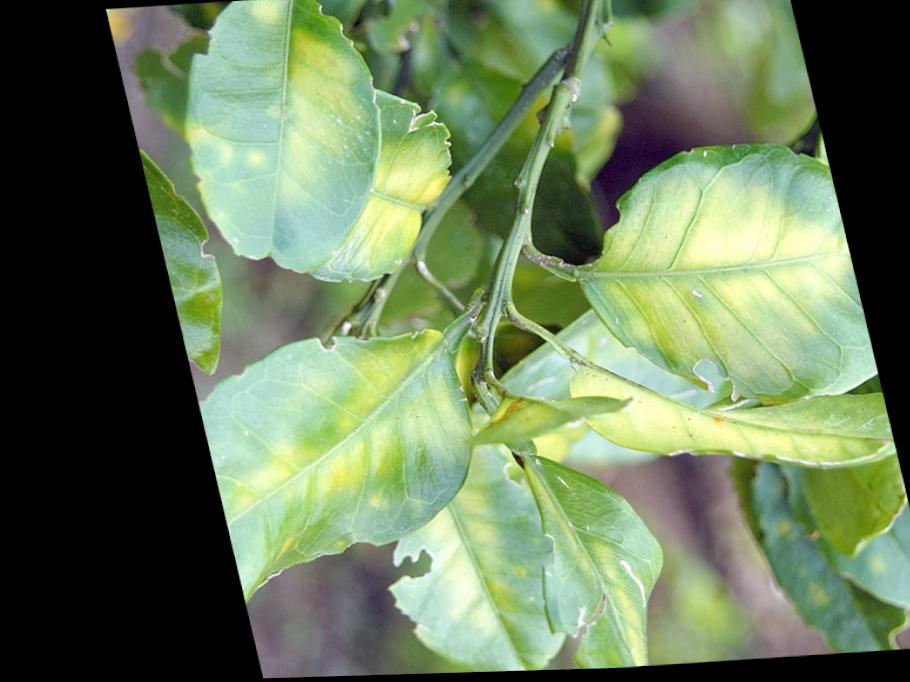Citrus Greening: (537, 133, 869, 427), (166, 323, 493, 619), (146, 0, 413, 286)
